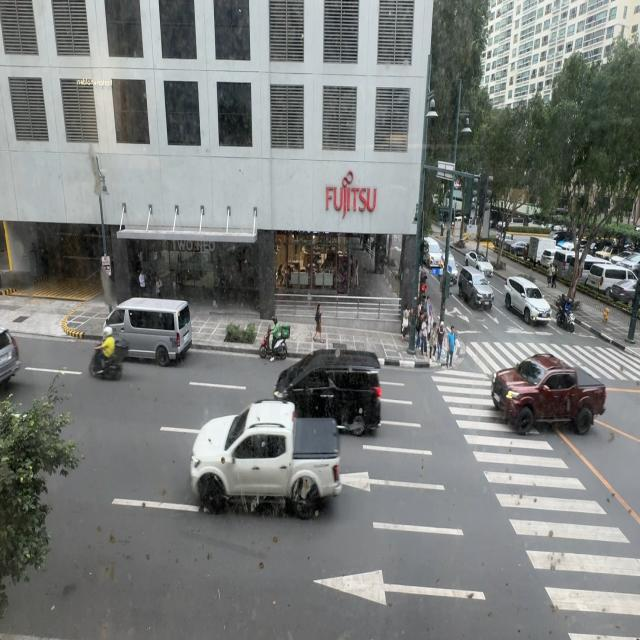pedestrain: (313, 302, 324, 343), (402, 306, 409, 340), (139, 269, 146, 292)
waiting: (446, 326, 456, 368), (436, 322, 445, 363), (424, 295, 434, 329), (428, 324, 437, 360), (416, 318, 424, 354), (421, 322, 428, 356), (416, 302, 423, 334)
